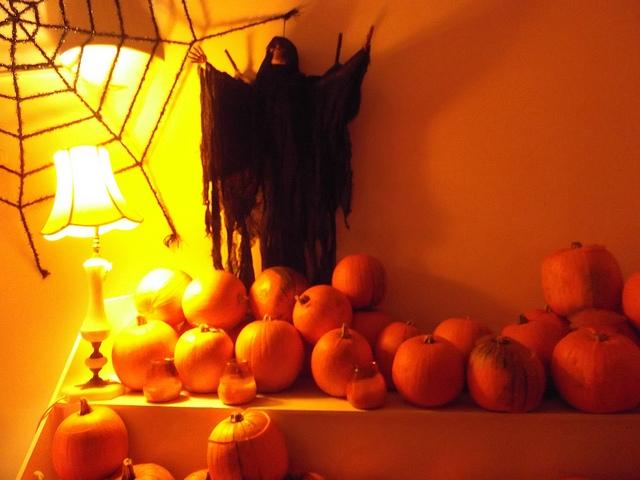pumpkin: (550, 328, 640, 412), (50, 397, 128, 479), (466, 336, 546, 412), (542, 242, 624, 316), (206, 411, 290, 480), (235, 314, 305, 394), (391, 335, 467, 406), (112, 314, 180, 392), (311, 322, 374, 398), (174, 324, 234, 394), (181, 270, 248, 332), (501, 308, 572, 366), (372, 320, 428, 392), (292, 284, 352, 347), (248, 266, 310, 326), (134, 268, 192, 326), (432, 316, 492, 368), (332, 254, 385, 308), (566, 309, 638, 346), (349, 310, 394, 360), (104, 458, 176, 480), (622, 270, 640, 330), (184, 469, 212, 480)
